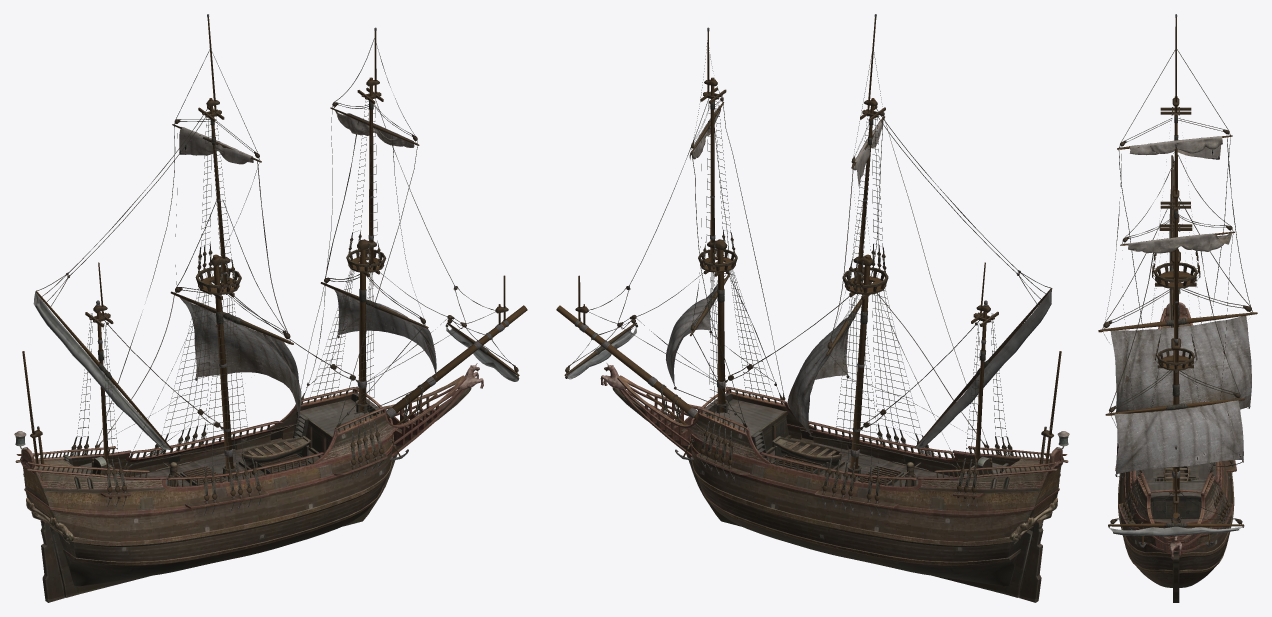
Rendered from dutch_ship_medium.glb.
3 views of the same model, side by side, from view 1: azimuth 30°, elevation 25°; view 2: azimuth 150°, elevation 25°; view 3: azimuth 270°, elevation 25° (orthographic). The views are drawn at different scales.
Parts seen in each view (by area): view 1: dutch_ship_medium_hull, dutch_ship_medium_rigging, dutch_ship_medium_sails; view 2: dutch_ship_medium_hull, dutch_ship_medium_rigging, dutch_ship_medium_sails; view 3: dutch_ship_medium_sails, dutch_ship_medium_rigging, dutch_ship_medium_hull.
Boxes of the visible parts, x1,y1,x2,y2 form: dutch_ship_medium_hull: (14, 363, 483, 602); dutch_ship_medium_rigging: (22, 14, 527, 516); dutch_ship_medium_sails: (179, 111, 436, 419); dutch_ship_medium_hull: (600, 363, 1069, 602); dutch_ship_medium_rigging: (556, 14, 1061, 516); dutch_ship_medium_sails: (666, 105, 882, 434); dutch_ship_medium_sails: (1110, 136, 1251, 474); dutch_ship_medium_rigging: (1098, 14, 1257, 547); dutch_ship_medium_hull: (1115, 289, 1236, 602).
Size of the model in its own units: 24.07 by 24.66 by 6.81.
3 materials, 3 textured.
